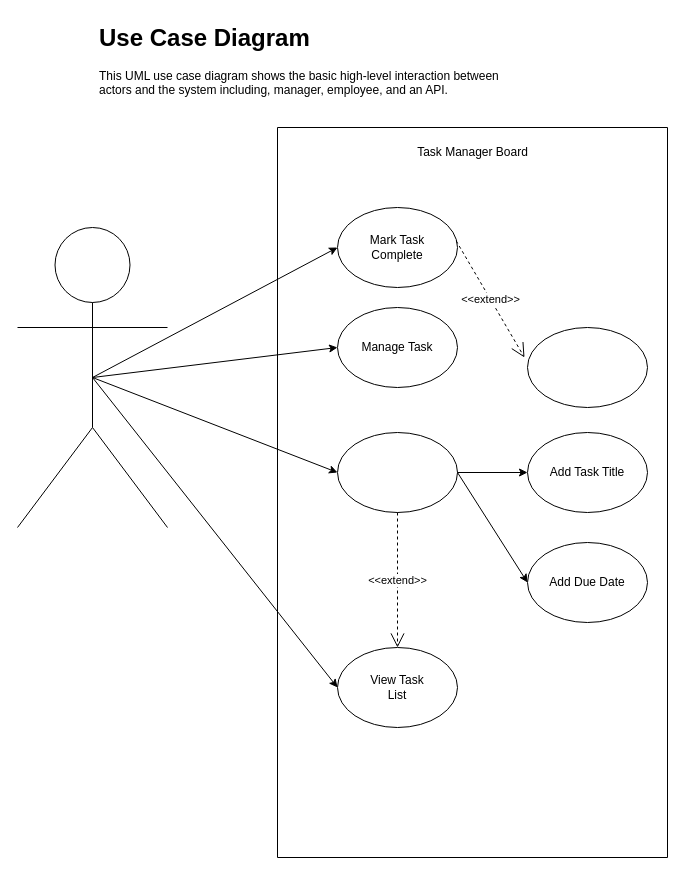
Image size: 685x875. Some labels were removed from this diagram. Here are the shapes that lost their labels. From the top down, the centre of each, then its label:
pixel 92 377: Manager
pixel 587 367: Delete Task
pixel 397 472: Add Task
